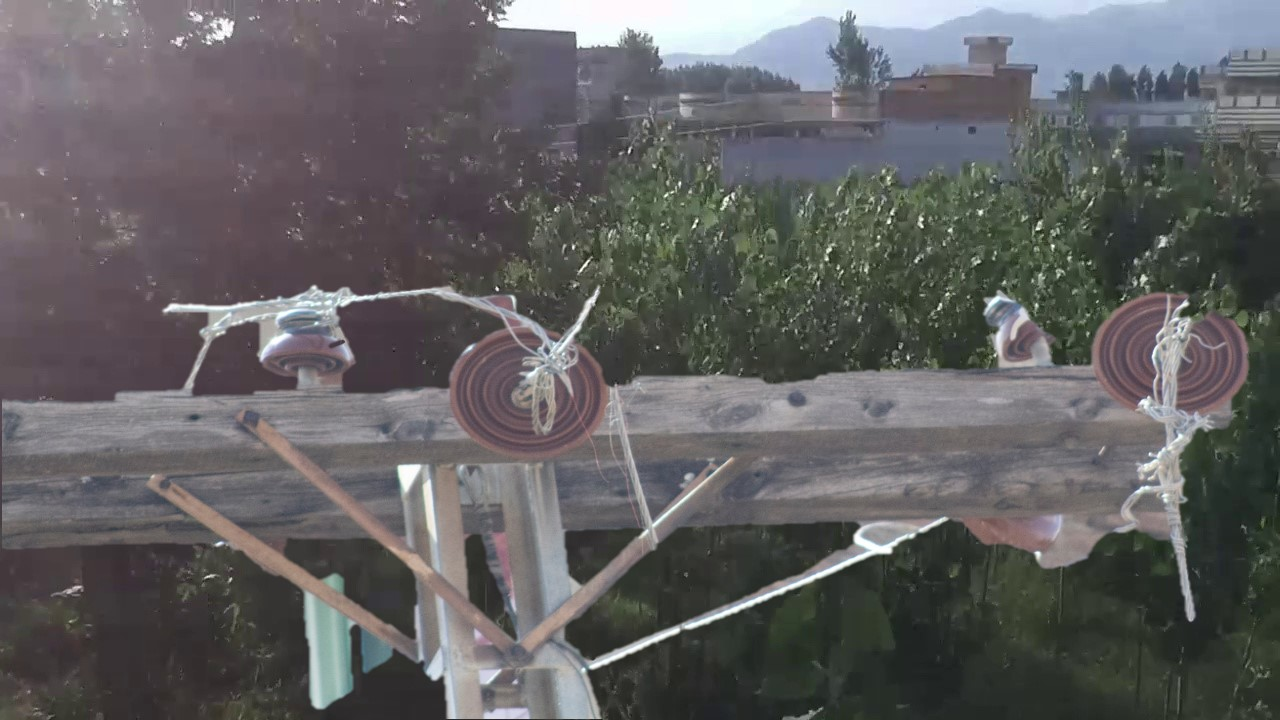defect_pin: (979, 286, 1059, 374)
insulator_disc: (445, 319, 612, 467), (1088, 288, 1256, 425)
insulator_pin: (254, 301, 359, 379)
